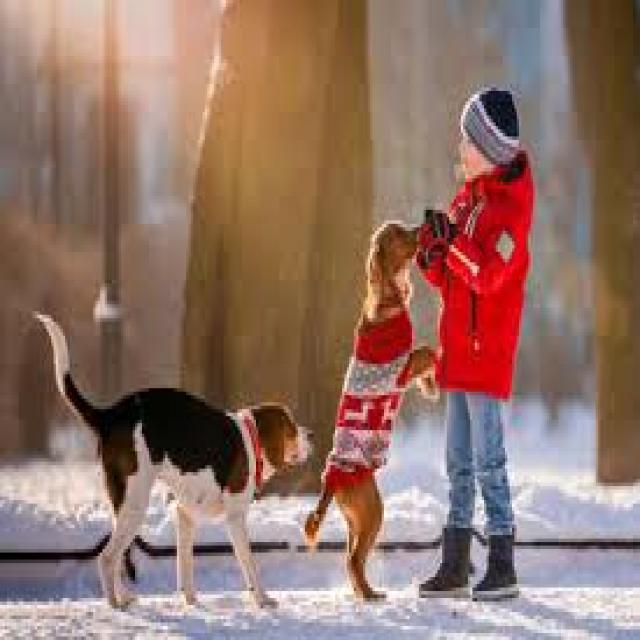Dog: (32, 308, 321, 616), (304, 218, 444, 605)
